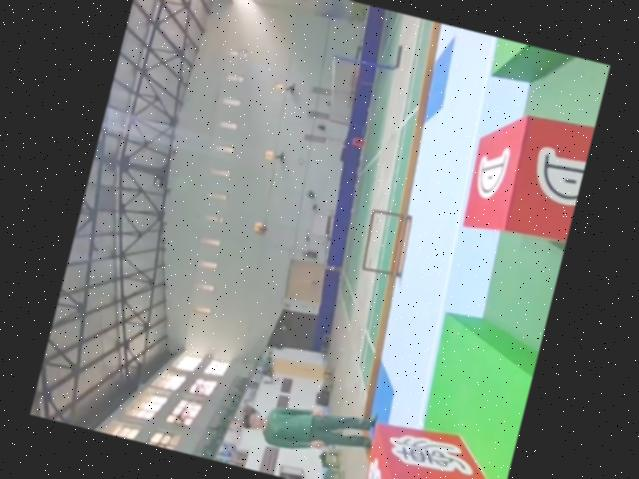R2 Fake: (356, 414, 514, 479)
R2 Real: (457, 100, 595, 249)
